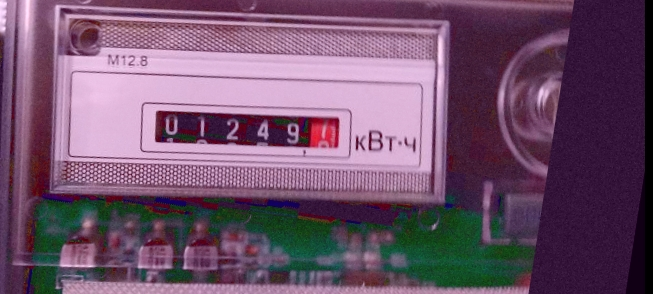0: (158, 107, 181, 136)
1: (190, 111, 209, 138)
2: (220, 114, 244, 143)
4: (252, 113, 274, 142)
7: (313, 114, 332, 140)
9: (281, 117, 303, 145)
screen: (127, 78, 369, 188)
